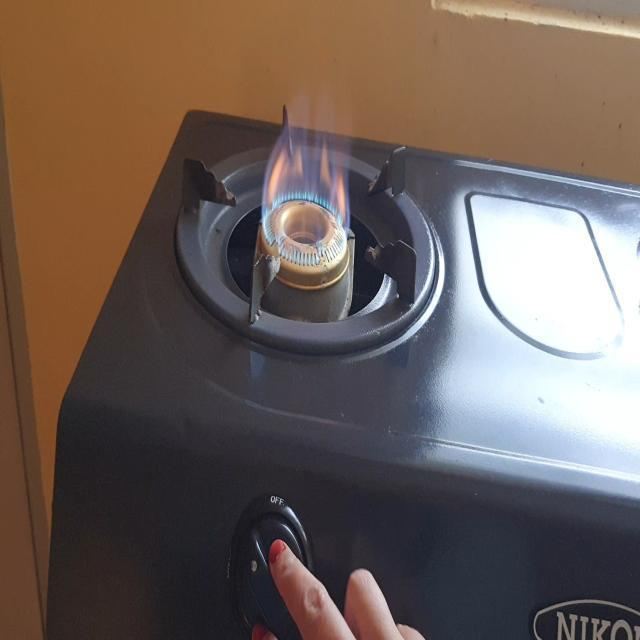smoke: (258, 104, 352, 288)
